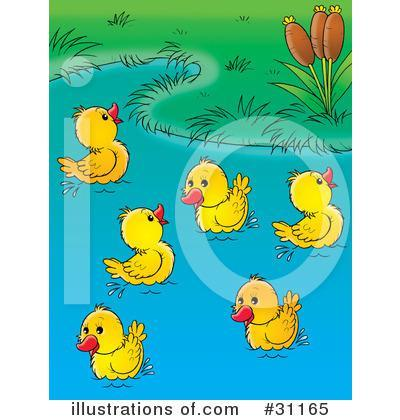bird: (94, 202, 179, 285), (51, 101, 135, 183), (268, 167, 348, 251), (223, 269, 303, 349), (177, 152, 255, 232), (75, 301, 148, 380)
